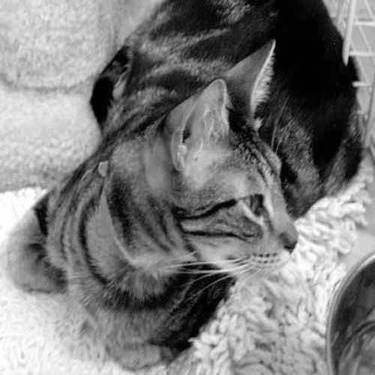cat: (3, 1, 369, 368)
